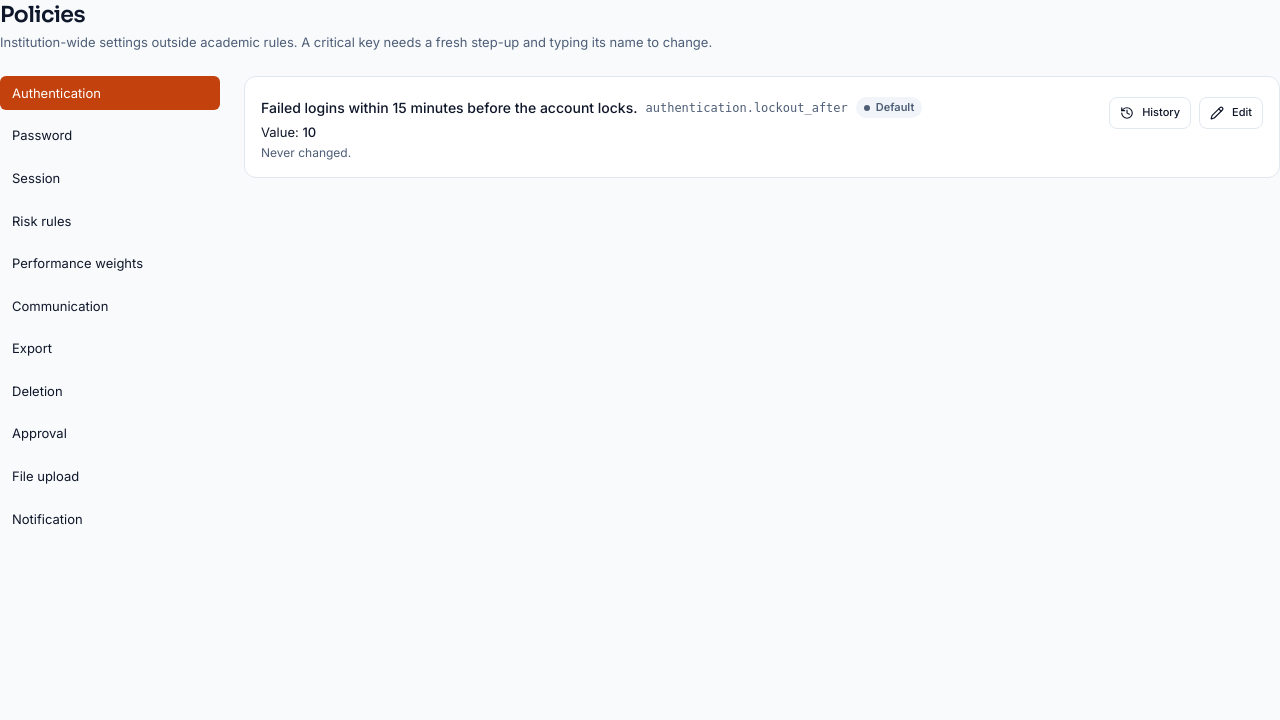
PoliciesScreen › edits a non-critical value with a reason, no step-up needed
The width and height of the screenshot is (1280, 720).
Click the button "Edit". click: (1231, 113)
box: [1199, 97, 1263, 129]
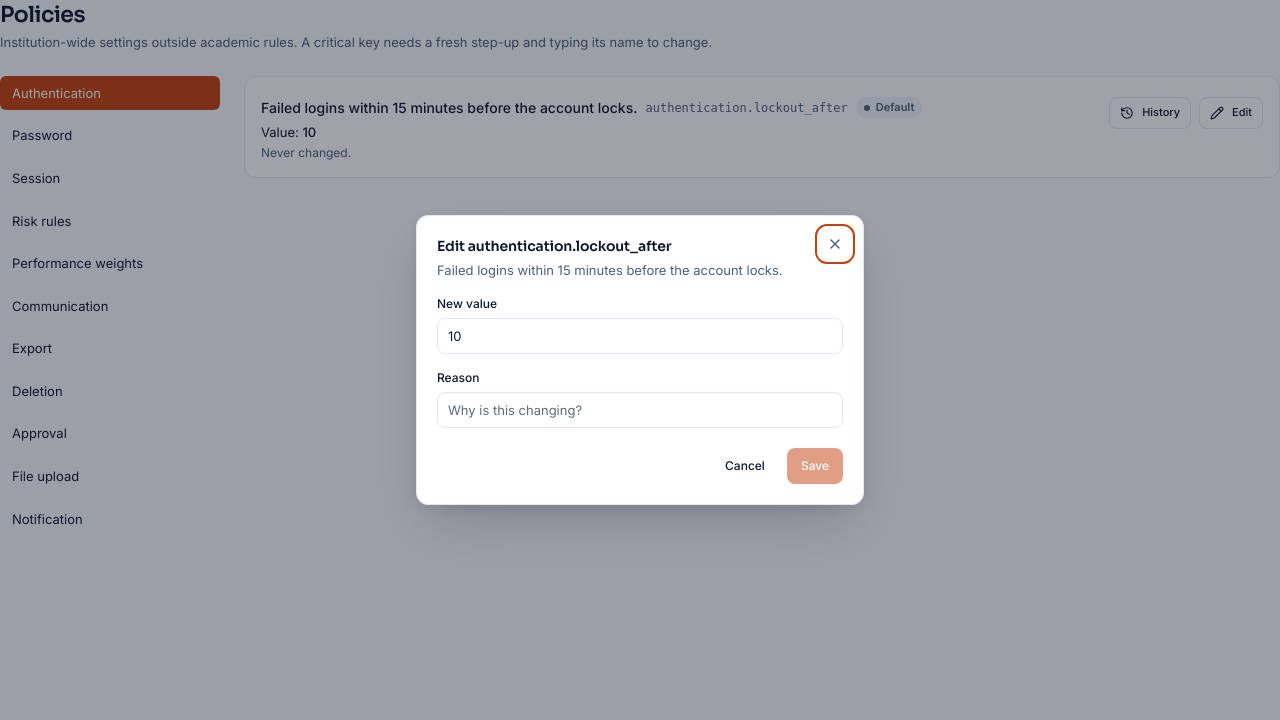
Replace the text in the number field labelled "New value" with "15". click: (640, 336)
box: [437, 318, 843, 354]
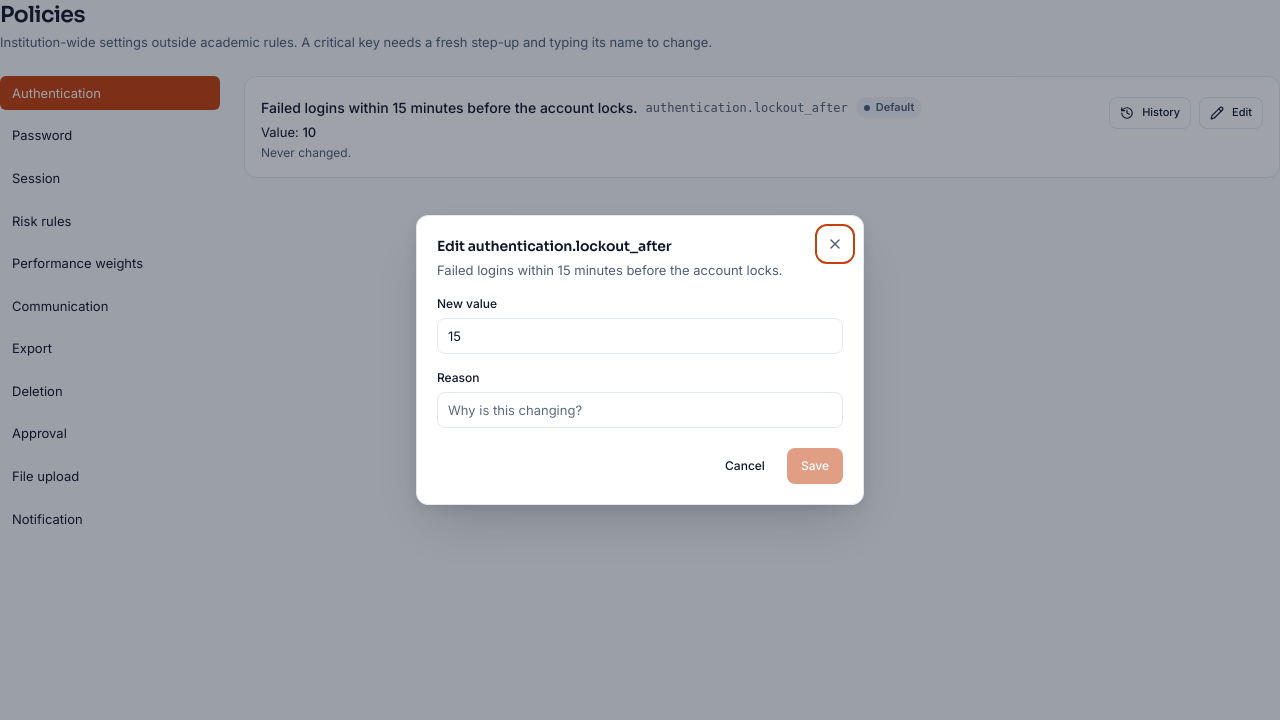
Type "Tighten lockouts" into the field labelled "Reason". click: (640, 410)
box: [437, 392, 843, 428]
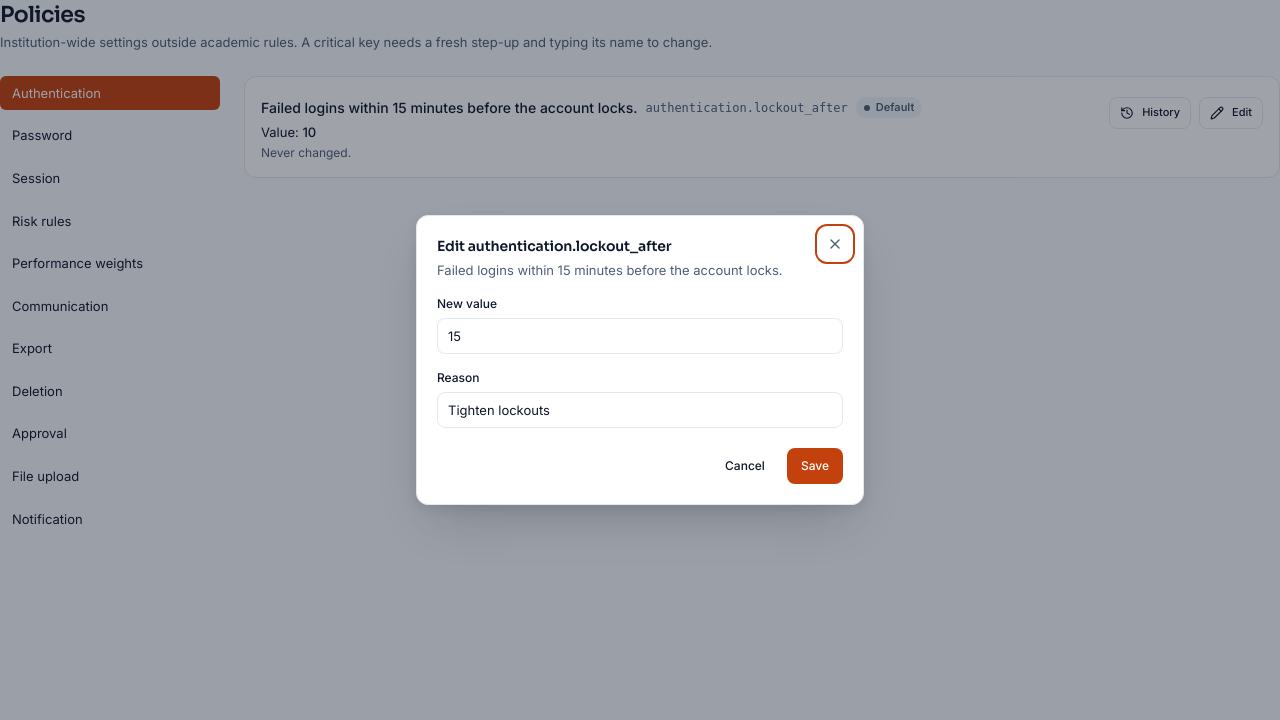
Click the button "Save". click: (815, 466)
box: [787, 448, 843, 484]
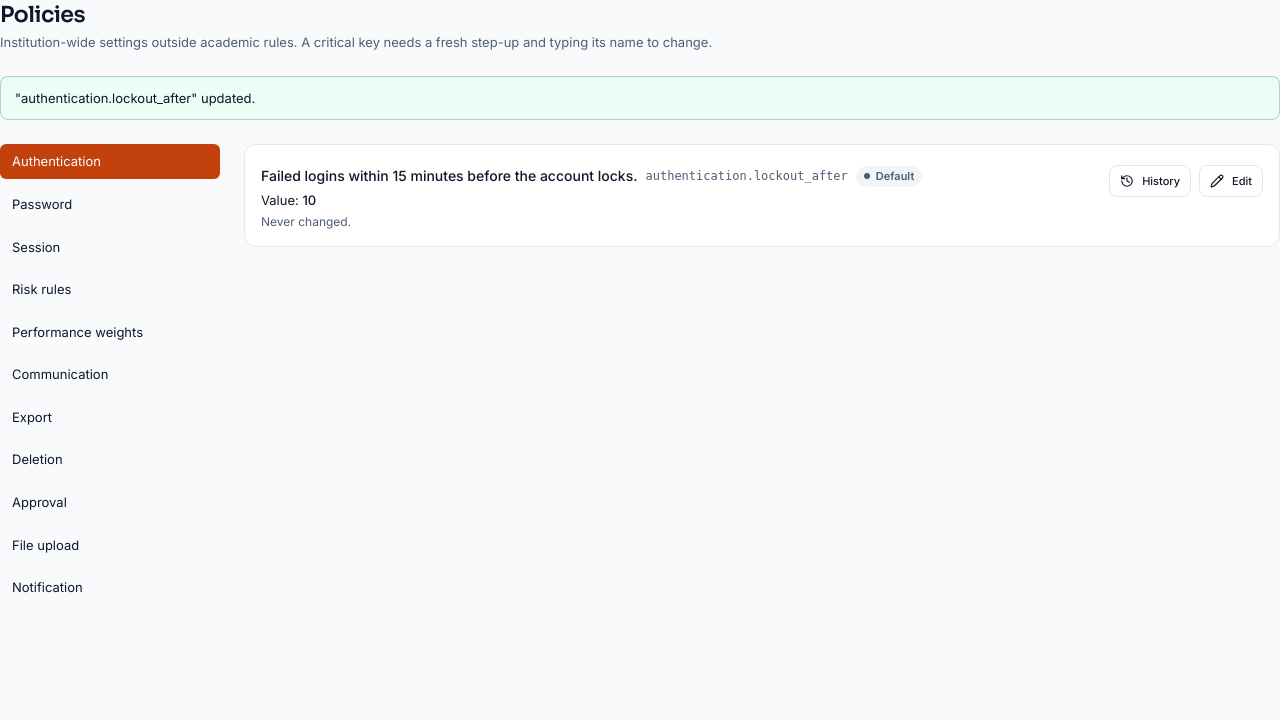
Check: the text "\"authentication.lockout_after\" updated." is shown, box [0, 76, 1279, 120]
